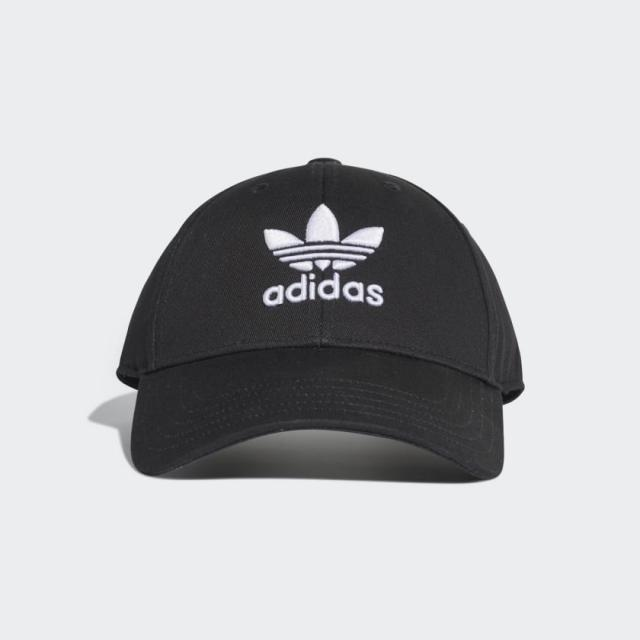mask: (115, 140, 541, 520)
